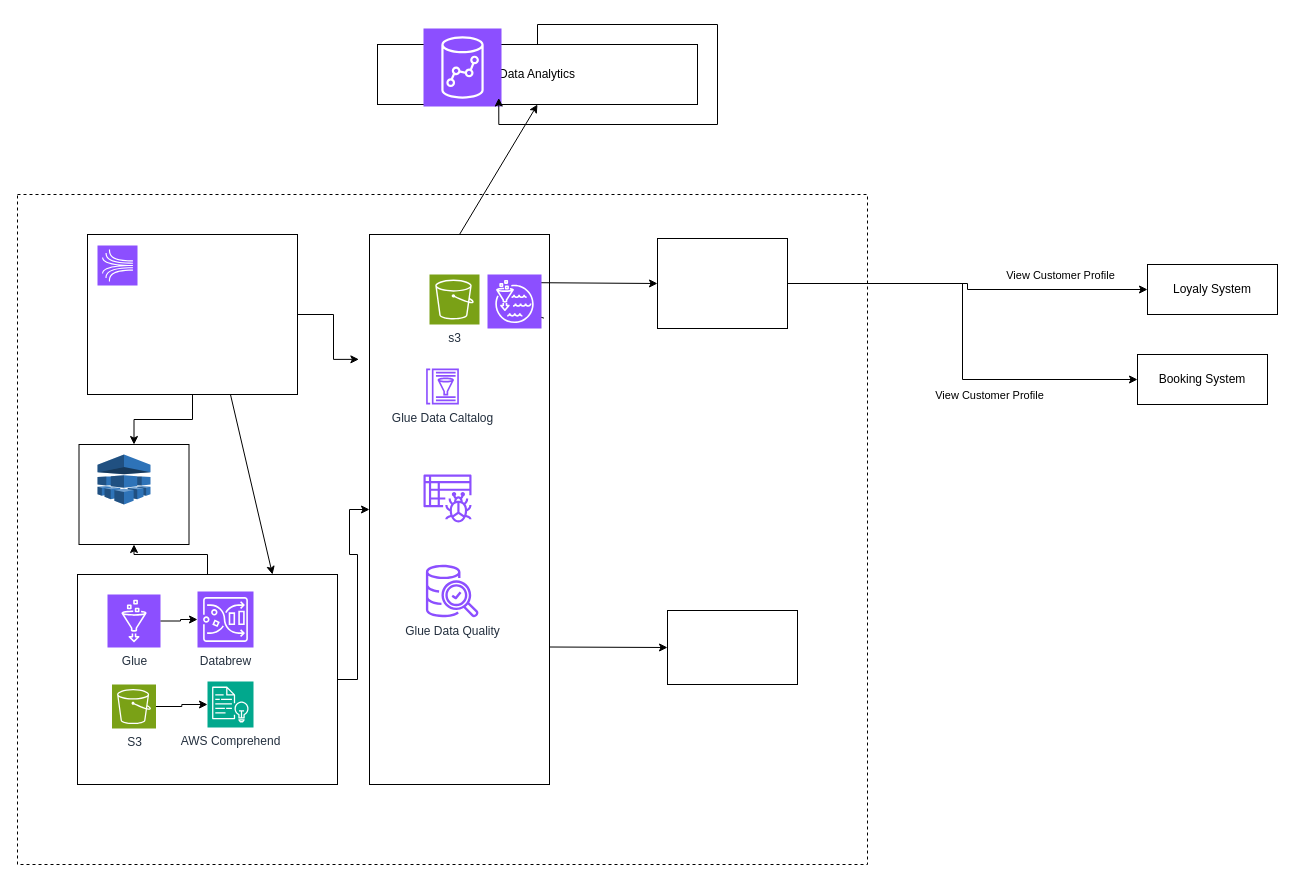
Image size: 1295x882. Some labels were removed from this diagram. The shapes that lost their labels are listed below. From the top down, each one's centre as x and y in pixels, then its label:
At point (117, 265): "Kinesis".
At point (722, 283): "Data Collaboration".
At point (123, 479): "AWS Entity Resolution".
At point (447, 498): "Glue Data Crawler".
At point (732, 647): "Customer Privacy and concent Mgmt".
